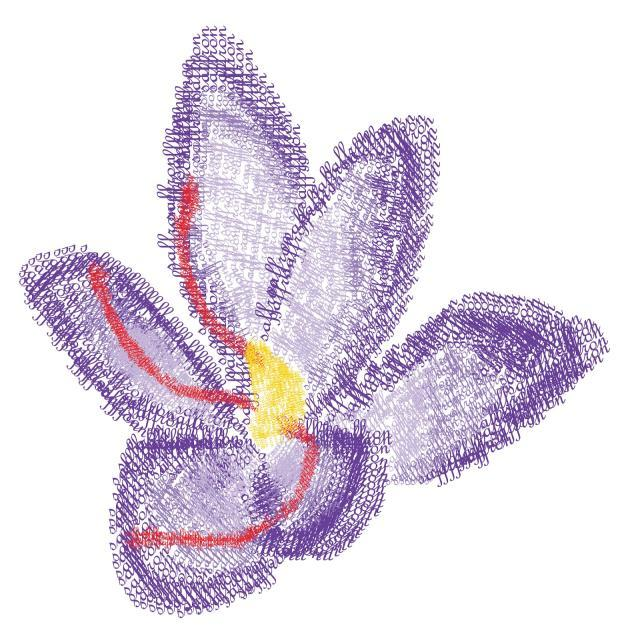Flower: (22, 22, 610, 612)
stigma: (85, 257, 240, 434), (123, 453, 325, 552), (178, 174, 250, 358)
